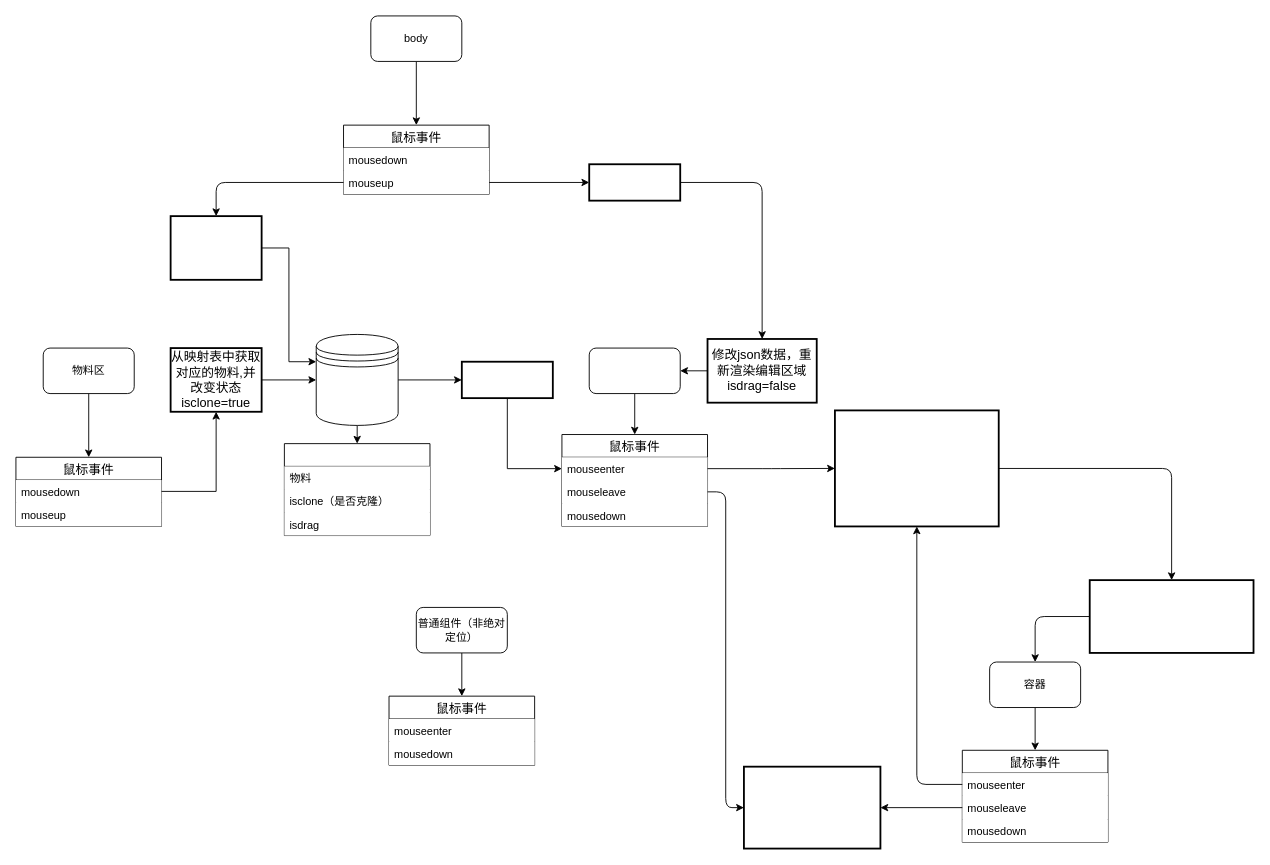
Some shapes in this 1270 by 865 pixel diagram are drawn without their labels. Each missing label, with the box of its shape:
isclone=false: (169, 215, 262, 280)
isclone=true?: (460, 360, 553, 399)
isdrag=true?: (588, 163, 681, 201)
pinia: (315, 334, 398, 425)
为容器绑定mouseleave事件; isdrag=true； 对应容器的属性issort=true;: (834, 409, 999, 527)
将容器复原； issort=false; 解绑mouseleave事件: (743, 765, 881, 849)
数据: (283, 443, 430, 536)
监听issort是否为true，是的话让该容器处于选中状态并为子元素绑定对应事件: (1088, 579, 1254, 653)
编辑区域(也是容器，但不可拖拽): (588, 347, 680, 394)
